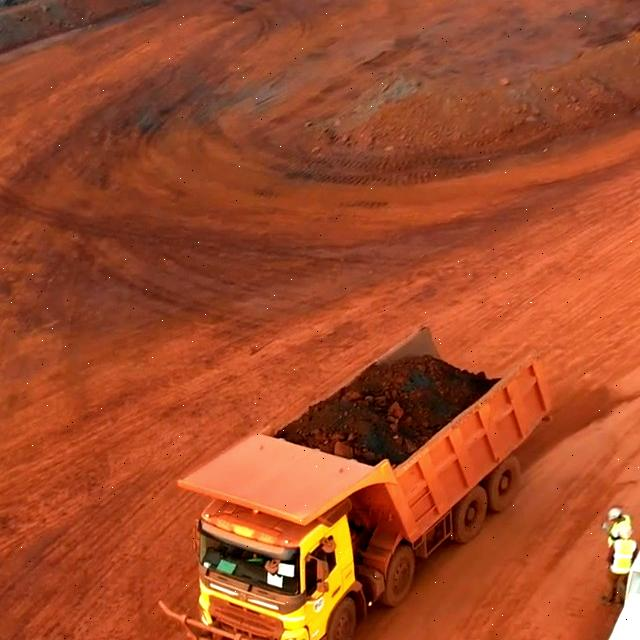Dumper truck: (261, 365, 533, 500), (197, 467, 354, 640)
person: (609, 522, 640, 596), (605, 501, 637, 545)
